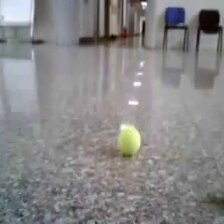tennis: (117, 126, 141, 156)
